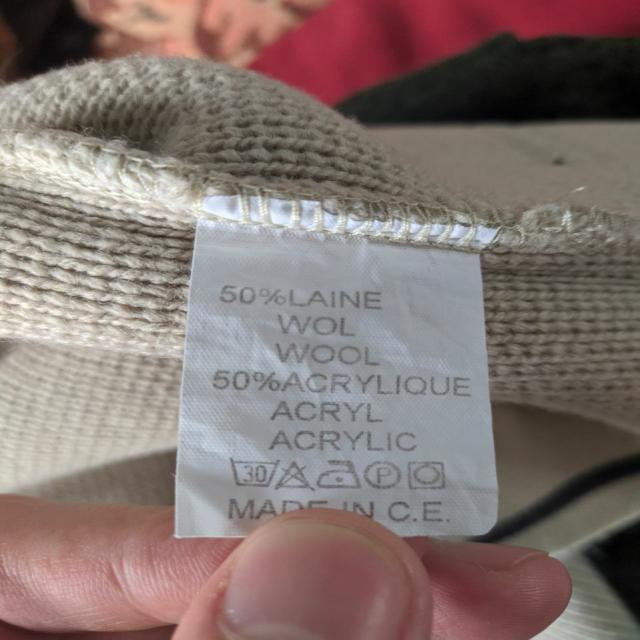30C: (225, 456, 280, 492)
DN_bleach: (274, 458, 315, 494)
dry_clean_any_solvent_except_trichloroethylene: (362, 460, 405, 490)
iron_low: (314, 456, 361, 491)
tumble_dry_normal: (408, 458, 445, 493)
